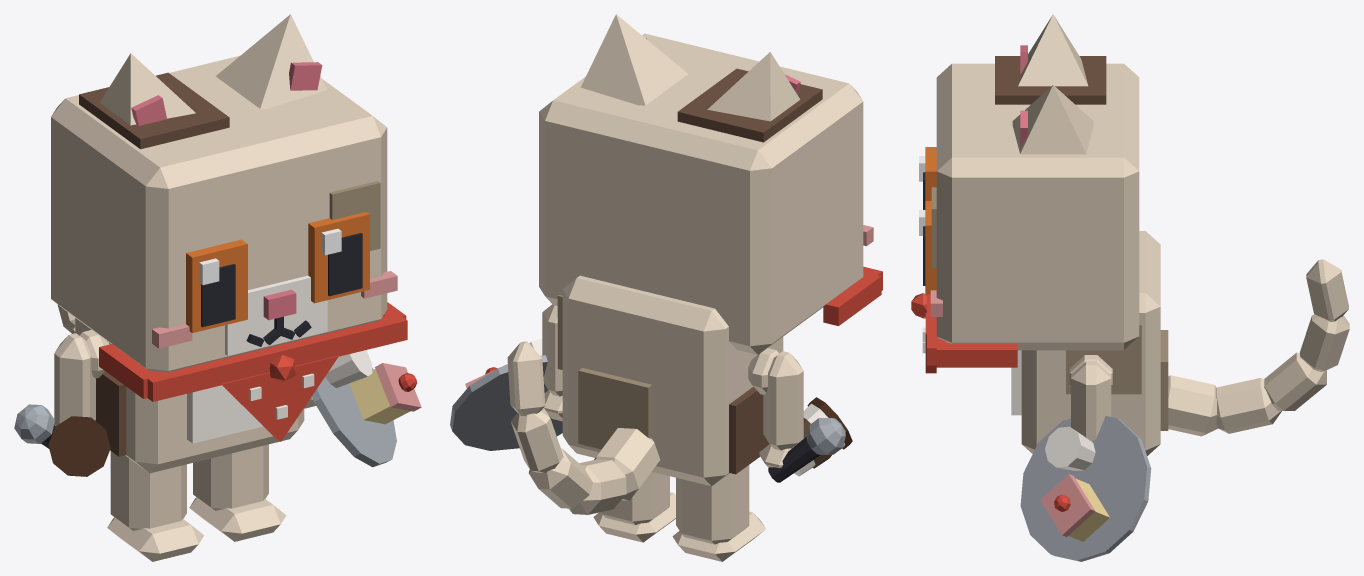
File: CatCafe_Cat_Dusty_Work.glb
3 views of the same model, side by side, from view 1: azimuth 30°, elevation 25°; view 2: azimuth 150°, elevation 25°; view 3: azimuth 270°, elevation 25° (orthographic). The views are drawn at different scales.
Visible parts, largest first — view 1: CatCafe_Cat_Dusty_Work_Head, CatCafe_Cat_Dusty_Work_Prop, CatCafe_Cat_Dusty_Work_Body, CatCafe_Cat_Dusty_Work_Held_Waiter, CatCafe_Cat_Dusty_Work_LegB2, CatCafe_Cat_Dusty_Work_LegB1, CatCafe_Cat_Dusty_Work_EarL, CatCafe_Cat_Dusty_Work_Eye2, CatCafe_Cat_Dusty_Work_Eye1, CatCafe_Cat_Dusty_Work_EarR, CatCafe_Cat_Dusty_Work_LegF2, CatCafe_Cat_Dusty_Work_Held_Barista (+1 smaller); view 2: CatCafe_Cat_Dusty_Work_Head, CatCafe_Cat_Dusty_Work_Body, CatCafe_Cat_Dusty_Work_Tail, CatCafe_Cat_Dusty_Work_LegB2, CatCafe_Cat_Dusty_Work_EarL, CatCafe_Cat_Dusty_Work_Held_Waiter, CatCafe_Cat_Dusty_Work_LegF2, CatCafe_Cat_Dusty_Work_EarR, CatCafe_Cat_Dusty_Work_LegB1, CatCafe_Cat_Dusty_Work_Held_Entertainer, CatCafe_Cat_Dusty_Work_LegF1, CatCafe_Cat_Dusty_Work_Prop (+1 smaller); view 3: CatCafe_Cat_Dusty_Work_Head, CatCafe_Cat_Dusty_Work_Held_Waiter, CatCafe_Cat_Dusty_Work_Body, CatCafe_Cat_Dusty_Work_Tail, CatCafe_Cat_Dusty_Work_EarL, CatCafe_Cat_Dusty_Work_EarR, CatCafe_Cat_Dusty_Work_Prop, CatCafe_Cat_Dusty_Work_LegF1, CatCafe_Cat_Dusty_Work_Eye1, CatCafe_Cat_Dusty_Work_Eye2.
Boxes of the visible parts, <box> form: CatCafe_Cat_Dusty_Work_Head: <box>51,55,397,372</box>; CatCafe_Cat_Dusty_Work_Prop: <box>99,302,407,441</box>; CatCafe_Cat_Dusty_Work_Body: <box>75,318,304,473</box>; CatCafe_Cat_Dusty_Work_Held_Waiter: <box>312,350,421,467</box>; CatCafe_Cat_Dusty_Work_LegB2: <box>107,451,203,561</box>; CatCafe_Cat_Dusty_Work_LegB1: <box>189,444,286,541</box>; CatCafe_Cat_Dusty_Work_EarL: <box>215,14,327,108</box>; CatCafe_Cat_Dusty_Work_Eye2: <box>186,239,247,332</box>; CatCafe_Cat_Dusty_Work_Eye1: <box>308,212,369,303</box>; CatCafe_Cat_Dusty_Work_EarR: <box>99,53,195,125</box>; CatCafe_Cat_Dusty_Work_LegF2: <box>54,333,95,425</box>; CatCafe_Cat_Dusty_Work_Held_Barista: <box>48,416,110,476</box>; CatCafe_Cat_Dusty_Work_Head: <box>539,33,873,354</box>; CatCafe_Cat_Dusty_Work_Body: <box>557,275,783,486</box>; CatCafe_Cat_Dusty_Work_Tail: <box>507,341,660,514</box>; CatCafe_Cat_Dusty_Work_LegB2: <box>672,465,765,561</box>; CatCafe_Cat_Dusty_Work_EarL: <box>580,14,687,105</box>; CatCafe_Cat_Dusty_Work_Held_Waiter: <box>450,339,562,450</box>; CatCafe_Cat_Dusty_Work_LegF2: <box>759,351,803,468</box>; CatCafe_Cat_Dusty_Work_EarR: <box>707,52,800,121</box>; CatCafe_Cat_Dusty_Work_LegB1: <box>593,472,675,542</box>; CatCafe_Cat_Dusty_Work_Held_Entertainer: <box>768,418,845,482</box>; CatCafe_Cat_Dusty_Work_LegF1: <box>542,304,562,421</box>; CatCafe_Cat_Dusty_Work_Prop: <box>823,266,882,325</box>; CatCafe_Cat_Dusty_Work_Head: <box>930,56,1139,350</box>; CatCafe_Cat_Dusty_Work_Held_Waiter: <box>1020,416,1151,561</box>; CatCafe_Cat_Dusty_Work_Body: <box>1011,231,1168,455</box>; CatCafe_Cat_Dusty_Work_Tail: <box>1168,259,1349,436</box>; CatCafe_Cat_Dusty_Work_EarL: <box>1012,85,1093,154</box>; CatCafe_Cat_Dusty_Work_EarR: <box>1018,14,1088,86</box>; CatCafe_Cat_Dusty_Work_Prop: <box>911,293,1017,373</box>; CatCafe_Cat_Dusty_Work_LegF1: <box>1071,361,1111,441</box>; CatCafe_Cat_Dusty_Work_Eye1: <box>919,201,936,294</box>; CatCafe_Cat_Dusty_Work_Eye2: <box>919,147,936,209</box>.
Bounding box in the file's own units: 1.53 × 1.93 × 1.65.
1 material, 1 textured.
